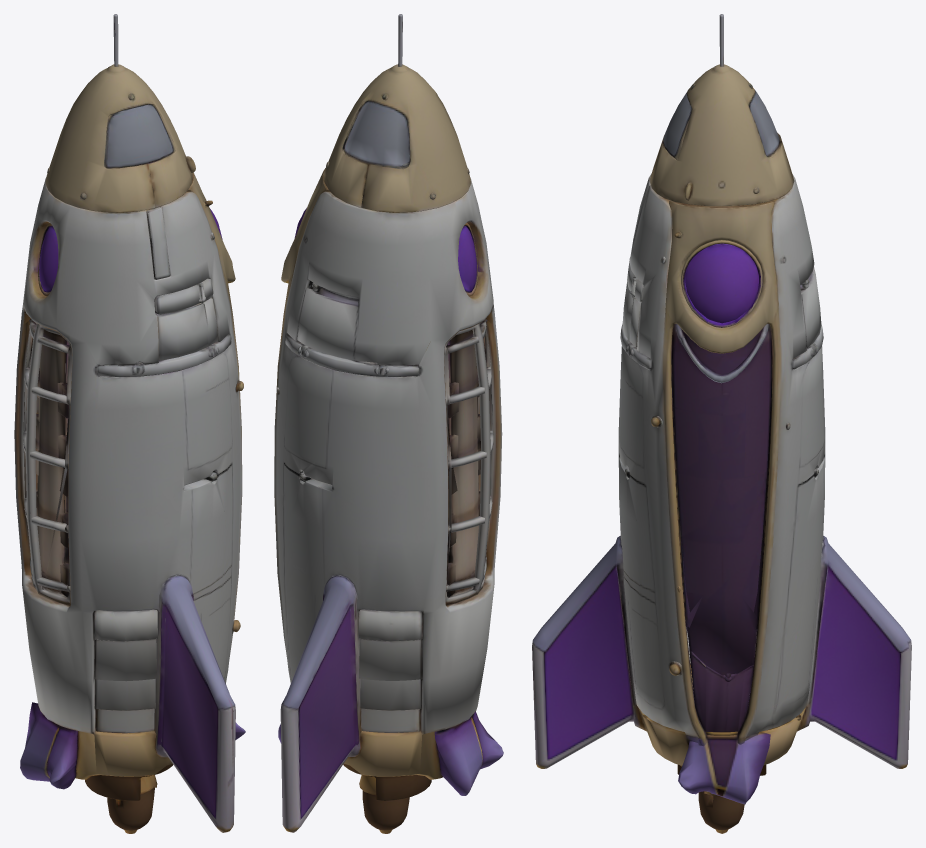
The model's file is royal-rocket.glb.
3 views of the same model, side by side, from view 1: azimuth 30°, elevation 25°; view 2: azimuth 150°, elevation 25°; view 3: azimuth 270°, elevation 25° (orthographic).
Parts seen in each view (by area): view 1: tripo_node_429b3b17-9179-44a0-b076-1bf5d11d737c; view 2: tripo_node_429b3b17-9179-44a0-b076-1bf5d11d737c; view 3: tripo_node_429b3b17-9179-44a0-b076-1bf5d11d737c.
Boxes of the visible parts, <box> form: tripo_node_429b3b17-9179-44a0-b076-1bf5d11d737c: <box>14,14,245,833</box>; tripo_node_429b3b17-9179-44a0-b076-1bf5d11d737c: <box>274,14,503,833</box>; tripo_node_429b3b17-9179-44a0-b076-1bf5d11d737c: <box>532,14,911,833</box>.
Size of the model in its own units: 0.2573 by 0.9995 by 0.4243.
1 material, 1 textured.
